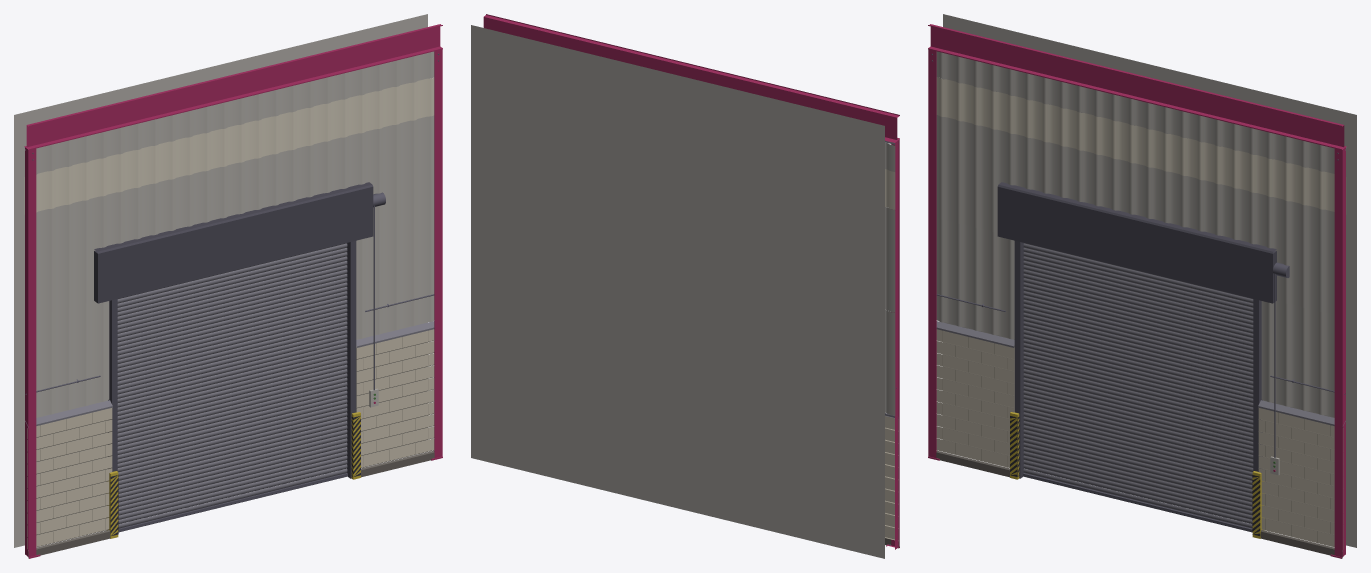
Rendered from hall_shutter.glb.
3 renders of one model, left to right at view 1: azimuth 30°, elevation 25°; view 2: azimuth 150°, elevation 25°; view 3: azimuth 330°, elevation 25°, orthographic.
Visible parts, largest first — view 1: HallShutter; view 2: HallShutter; view 3: HallShutter.
Boxes of the visible parts, <box> form: HallShutter: <box>14,14,442,558</box>; HallShutter: <box>471,14,899,558</box>; HallShutter: <box>928,14,1356,558</box>.
Bounding box in the file's own units: 8 × 8 × 0.5.
